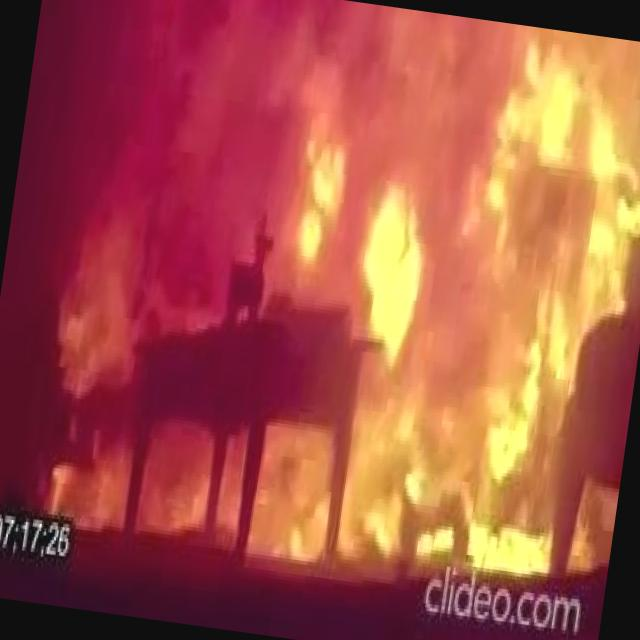fire: (55, 0, 640, 581)
